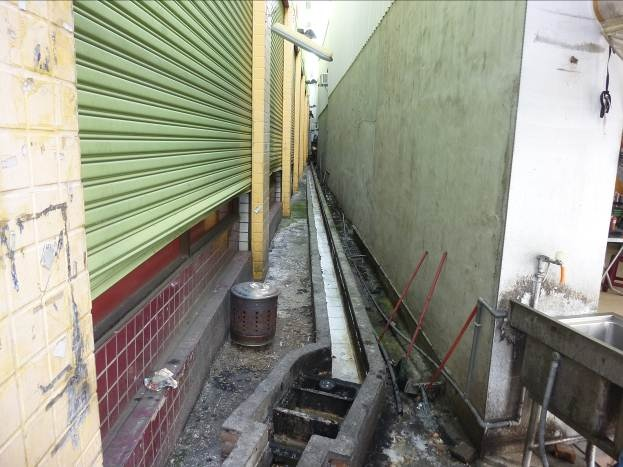bucket: (223, 277, 282, 351)
